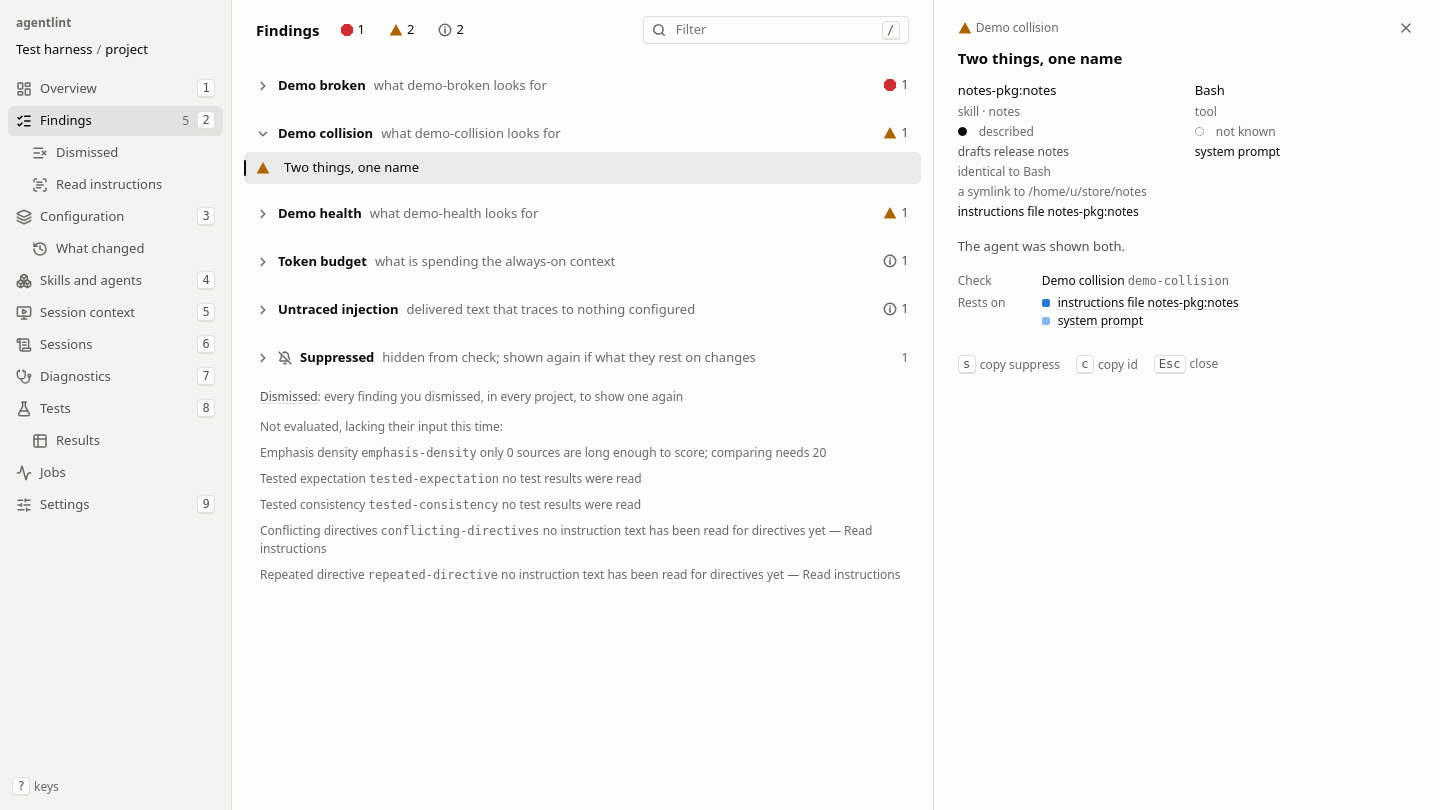
Test: the report Python writes › lays out a finding's members from its list: name, kind, package by its short name, what the agent saw
The image size is (1440, 810).
Hover over the text "notes".
mouse_move(1004, 111)  # box [989, 102, 1020, 120]
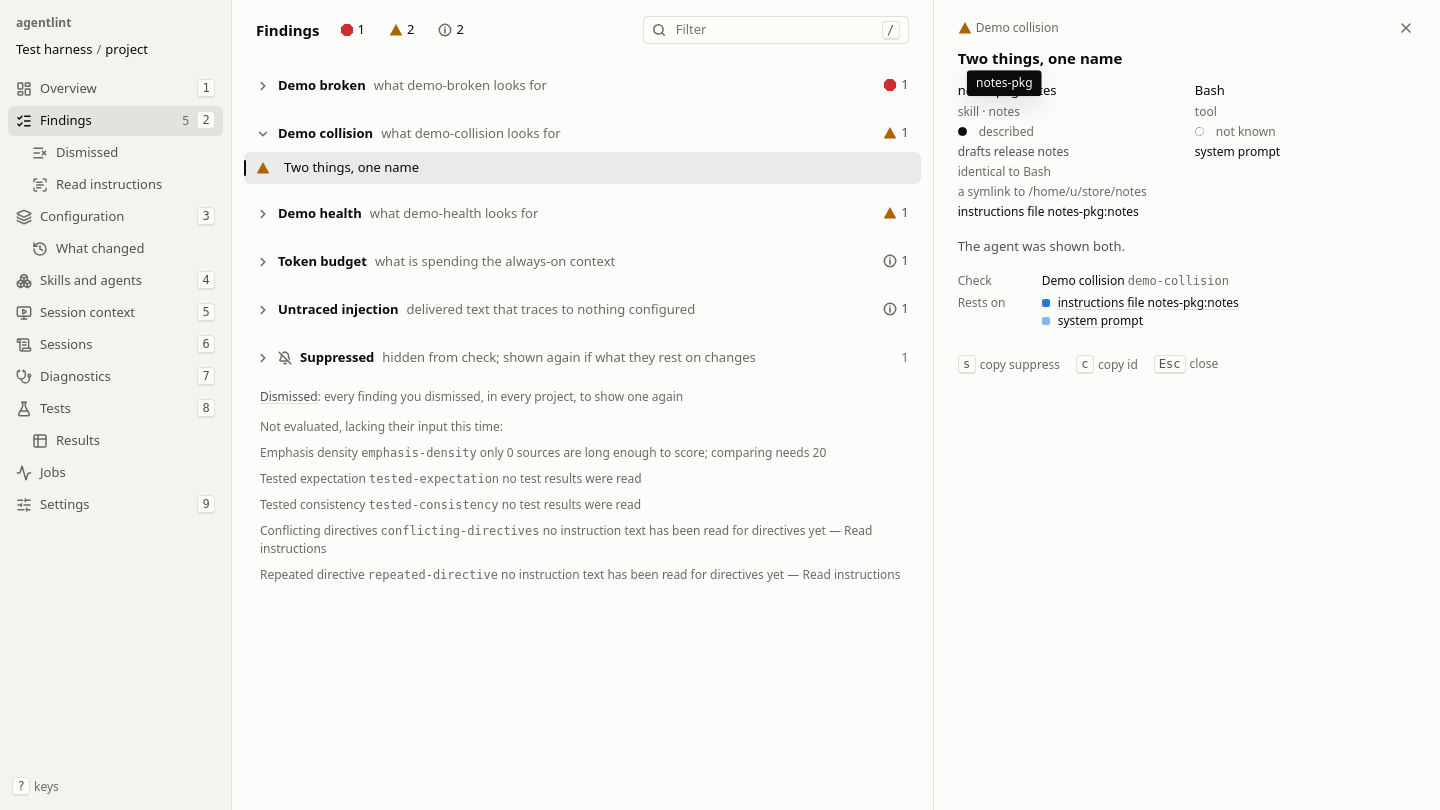
Check: the link "instructions file notes-pkg:notes" below "described" is shown, box [958, 202, 1139, 220]
Check: the tooltip reads "notes-pkg", box [976, 74, 1033, 91]
